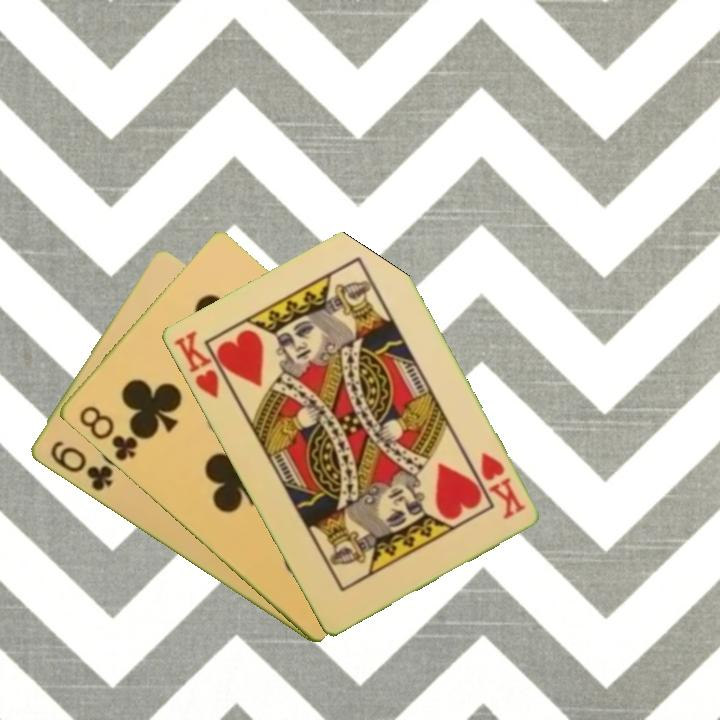6c: (46, 437, 116, 495)
8c: (75, 402, 140, 465)
Kh: (169, 327, 235, 402), (476, 448, 528, 523)
